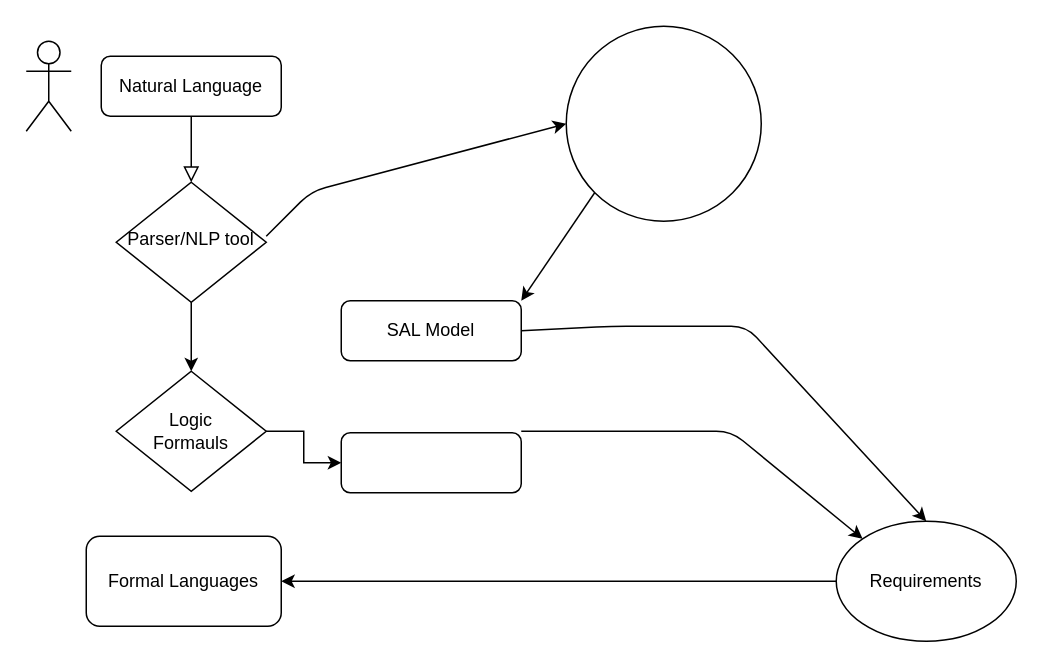
Some shapes in this 1043 by 668 pixel diagram are drawn without their labels. The shapes that lost their labels are listed below. From the top down, each one's centre as x and y in pixels, then its label:
the point at 48,85: Actor
the point at 663,123: Information retrieved from Parsing Document (IR table,
the point at 430,462: Reliability Check
